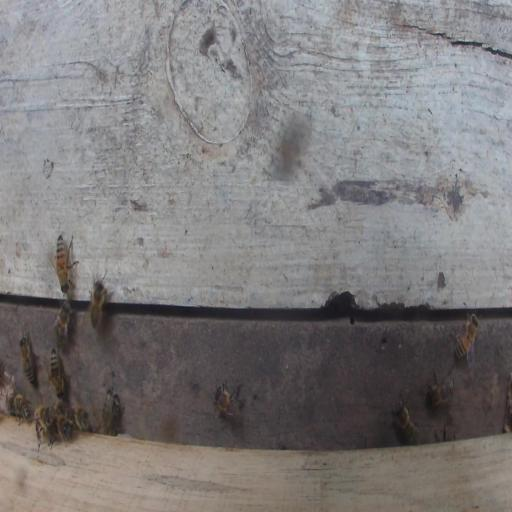bee: (454, 311, 479, 361), (426, 369, 455, 410), (89, 271, 108, 330), (392, 398, 416, 443), (215, 387, 242, 426), (19, 332, 37, 386), (55, 232, 71, 292), (55, 297, 71, 350), (49, 347, 65, 398), (10, 393, 31, 424), (100, 388, 114, 434), (53, 415, 74, 443), (35, 405, 52, 437), (72, 405, 91, 431), (110, 394, 121, 436)
